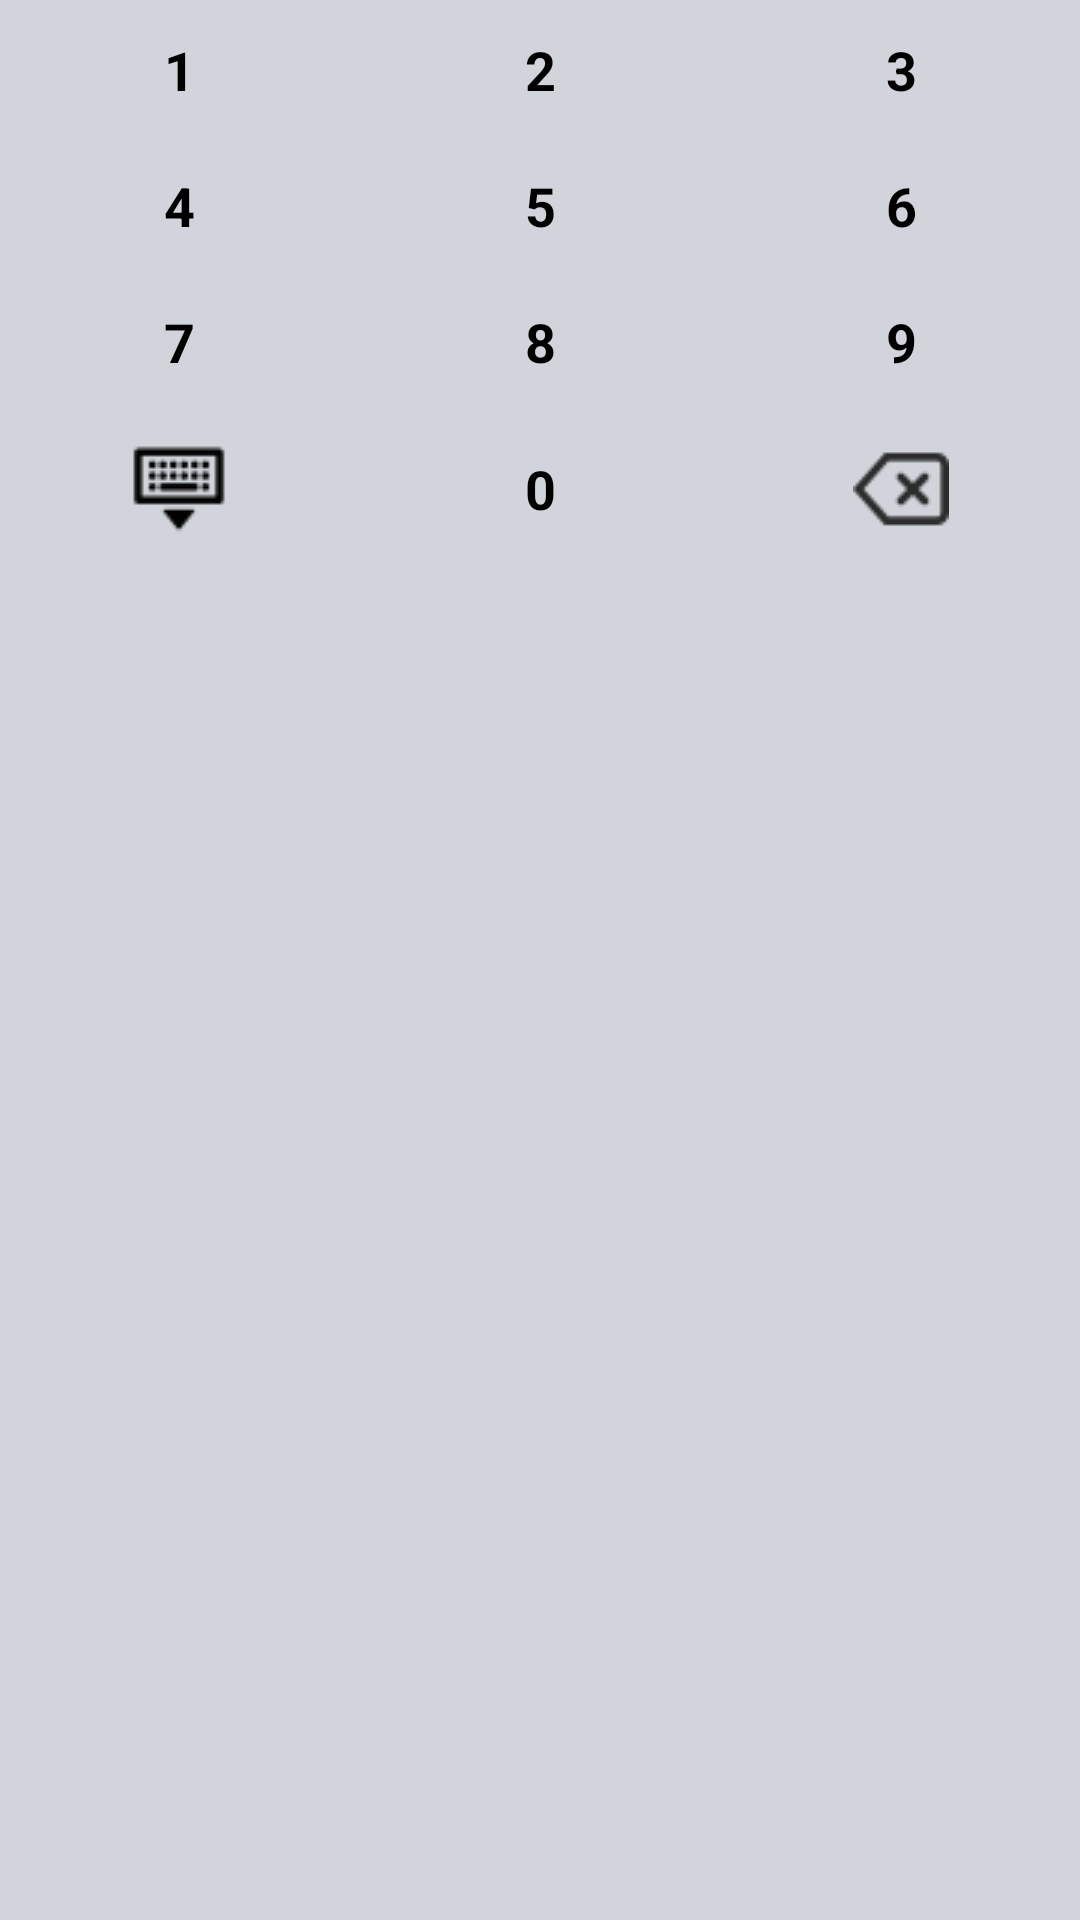

Locate icon controls on the screen. Image size 1080x1920, boxes as rect(x1, y1, x2, y2).
delete: rect(853, 452, 949, 526)
keyboard dismiss: rect(133, 446, 225, 531)
